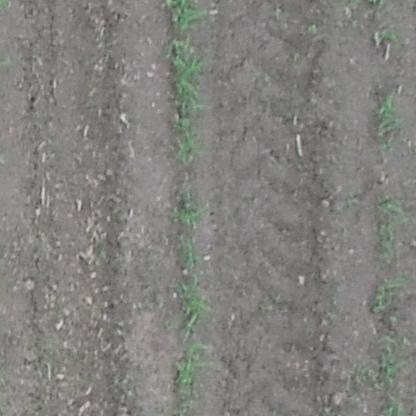corn: (171, 240, 221, 394), (165, 36, 208, 163), (374, 88, 401, 154), (167, 192, 212, 228)
vc: (307, 21, 321, 34)
